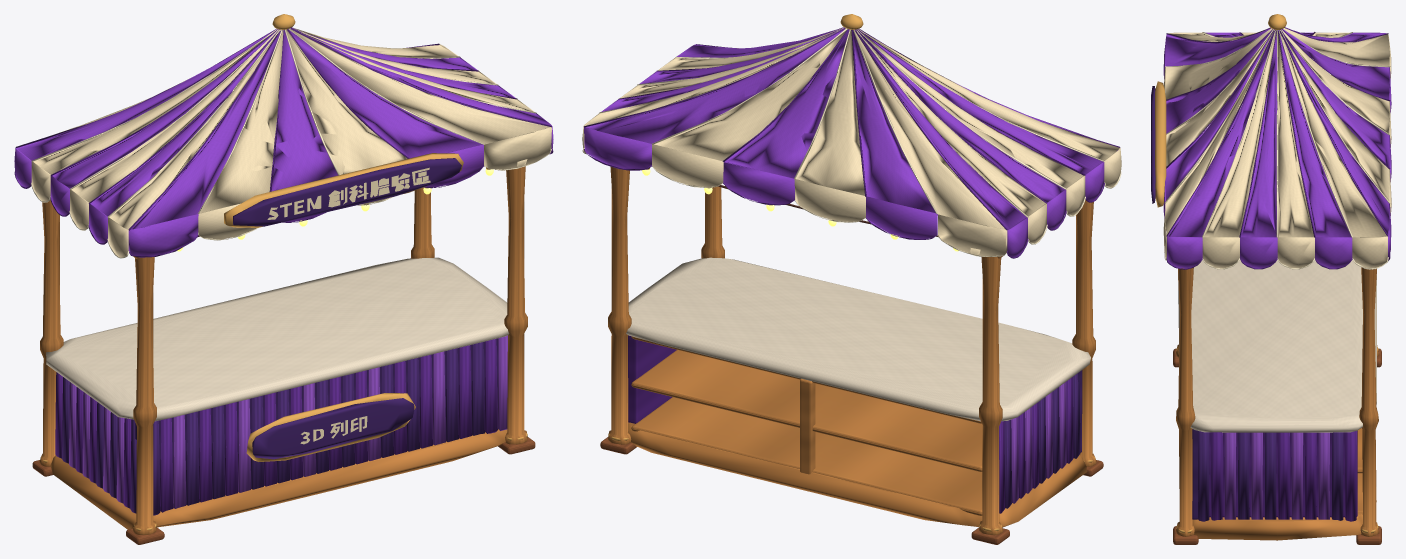
The model's file is stem-booth.glb.
3 views of the same model, side by side, from view 1: azimuth 30°, elevation 25°; view 2: azimuth 150°, elevation 25°; view 3: azimuth 270°, elevation 25° (orthographic).
Parts seen in each view (by area): view 1: Solid molded and beveled worktop, Biaxially tensioned canvas roof gore.001, Biaxially tensioned canvas roof gore, Chamfered cabinet plinth, Cabinet front divider, Cabinet side inset, Floating enamel lettering inset, V-jointed rounded front stave.002, Brass foot band, Rolled scallop hem with stitched binding, Rolled scallop hem with stitched binding.001, Counter plaque letters (+1 smaller); view 2: Chamfered cabinet plinth, Solid molded and beveled worktop, Biaxially tensioned canvas roof gore.001, Biaxially tensioned canvas roof gore, Cabinet side inset, Rolled scallop hem with stitched binding, Rolled scallop hem with stitched binding.001, Cabinet front divider, V-jointed rounded front stave.002, Rounded foot plate; view 3: Solid molded and beveled worktop, Biaxially tensioned canvas roof gore, Biaxially tensioned canvas roof gore.001, Chamfered cabinet plinth, Cabinet side inset, Cabinet front divider, V-jointed rounded front stave.002, Rolled scallop hem with stitched binding, Rolled scallop hem with stitched binding.001, Brass foot band, Rounded foot plate, Floating enamel lettering inset.
Part boxes in pixels (bbox=[...]): Solid molded and beveled worktop: bbox=[46, 257, 509, 421]; Biaxially tensioned canvas roof gore.001: bbox=[31, 28, 551, 257]; Biaxially tensioned canvas roof gore: bbox=[14, 28, 553, 256]; Chamfered cabinet plinth: bbox=[39, 166, 527, 534]; Cabinet front divider: bbox=[62, 338, 498, 515]; Cabinet side inset: bbox=[55, 339, 497, 512]; Floating enamel lettering inset: bbox=[233, 158, 461, 459]; V-jointed rounded front stave.002: bbox=[69, 335, 507, 508]; Brass foot band: bbox=[40, 14, 527, 531]; Rolled scallop hem with stitched binding: bbox=[14, 27, 553, 257]; Rolled scallop hem with stitched binding.001: bbox=[31, 28, 552, 258]; Counter plaque letters: bbox=[267, 167, 430, 444]; Chamfered cabinet plinth: bbox=[608, 166, 1096, 535]; Solid molded and beveled worktop: bbox=[626, 257, 1090, 421]; Biaxially tensioned canvas roof gore.001: bbox=[582, 28, 1121, 256]; Biaxially tensioned canvas roof gore: bbox=[584, 28, 1117, 257]; Cabinet side inset: bbox=[628, 335, 1073, 513]; Rolled scallop hem with stitched binding: bbox=[584, 27, 1120, 258]; Rolled scallop hem with stitched binding.001: bbox=[582, 27, 1121, 256]; Cabinet front divider: bbox=[1004, 370, 1082, 508]; V-jointed rounded front stave.002: bbox=[1011, 382, 1066, 503]; Rounded foot plate: bbox=[600, 437, 1103, 544]; Solid molded and beveled worktop: bbox=[1178, 259, 1376, 432]; Biaxially tensioned canvas roof gore: bbox=[1163, 28, 1391, 268]; Biaxially tensioned canvas roof gore.001: bbox=[1163, 28, 1391, 268]; Chamfered cabinet plinth: bbox=[1175, 119, 1379, 540]; Cabinet side inset: bbox=[1209, 430, 1357, 521]; Cabinet front divider: bbox=[1192, 429, 1343, 521]; V-jointed rounded front stave.002: bbox=[1224, 432, 1329, 519]; Rolled scallop hem with stitched binding: bbox=[1166, 27, 1390, 269]; Rolled scallop hem with stitched binding.001: bbox=[1164, 28, 1390, 269]; Brass foot band: bbox=[1155, 14, 1378, 533]; Rounded foot plate: bbox=[1173, 348, 1381, 544]; Floating enamel lettering inset: bbox=[1151, 86, 1155, 203].
Size of the model in its own units: 3.2 by 3.12 by 1.57.
Materials: 15 (8 with a texture image).
